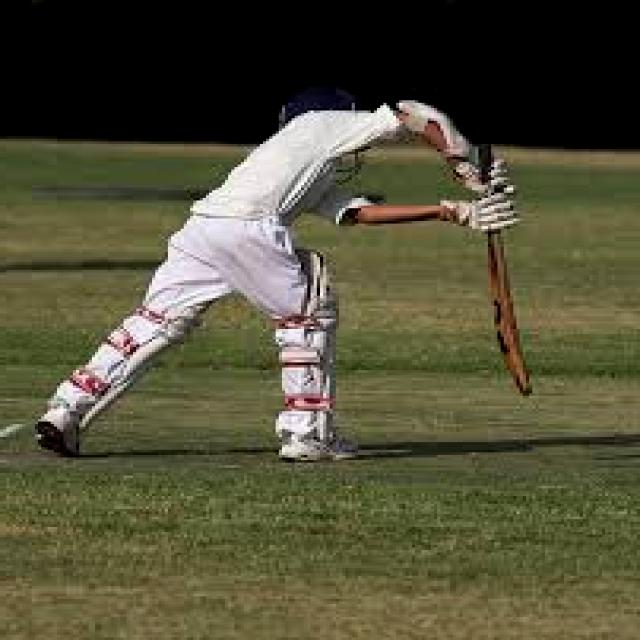bat: (464, 194, 552, 425)
